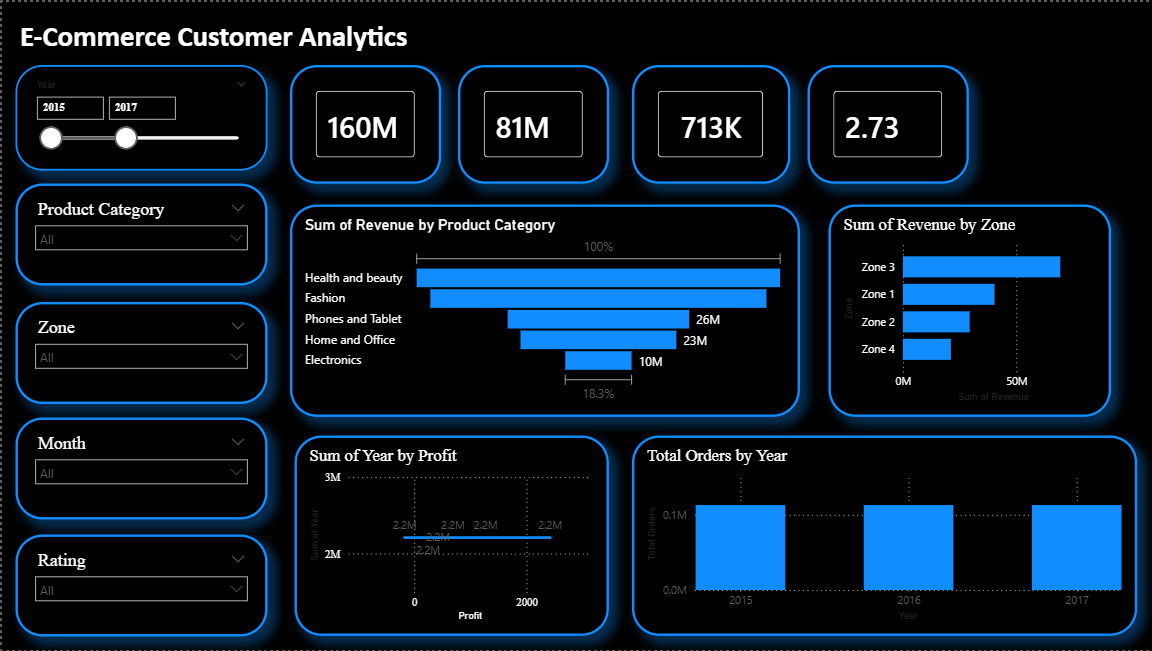

Layout of this report page (visuals, bound fields, positions):
{"tool":"powerbi","page":{"name":"Page 1","canvas":[1280,720],"ordinal":0},"visuals":[{"type":"slicer","fields":{"Values":["Calendar.Year"]},"box":[15.1,69.9,279.7,117.2],"z":0},{"type":"slicer","fields":{"Values":["E-commerce.Product Category"]},"box":[15.1,202.2,279.7,113.4],"z":1000},{"type":"slicer","fields":{"Values":["E-commerce.Zone"]},"box":[15.1,332.6,279.7,113.4],"z":2000},{"type":"slicer","fields":{"Values":["Calendar.Month"]},"box":[15.1,461.1,279.7,113.4],"z":3000},{"type":"slicer","fields":{"Values":["E-commerce.Rating"]},"box":[15.1,591.5,279.7,113.4],"z":4000},{"type":"textbox","box":[15.1,13.2,515.9,56.7],"z":5000},{"type":"cardVisual","fields":{"Data":["E-commerce.Total Revenue"]},"box":[319.4,69.9,168.2,132.3],"z":6000},{"type":"cardVisual","fields":{"Data":["E-commerce.Total Profit"]},"box":[506.5,69.9,168.2,132.3],"z":7000},{"type":"cardVisual","fields":{"Data":["E-commerce.Total Products Sold"]},"box":[699.2,69.9,175.7,132.3],"z":8000},{"type":"cardVisual","fields":{"Data":["E-commerce.Average Rating"]},"box":[895.8,69.9,179.5,132.3],"z":9000},{"type":"funnel","fields":{"Category":["E-commerce.Product Category"],"Y":["Sum(E-commerce.Revenue)"]},"box":[319.4,224.9,566.9,236.2],"z":10000},{"type":"clusteredBarChart","fields":{"Category":["E-commerce.Zone"],"Y":["Sum(E-commerce.Revenue)"]},"box":[918.4,224.9,313.7,236.2],"z":11000},{"type":"clusteredColumnChart","fields":{"Category":["Calendar.Year"],"Y":["E-commerce.Total Orders"]},"box":[699.2,481.9,561.3,223],"z":12000},{"type":"lineChart","fields":{"Category":["E-commerce.Profit"],"Y":["Sum(Calendar.Year)"]},"box":[325,481.9,349.6,223],"z":13000}]}

Visuals, with their boxes in screenshot pixels (x1, y1, x2, y2), scaled from the page's 1280x720 canvas onto the 1152x651 screenshot:
slicer - Calendar.Year: detection(14, 63, 265, 169)
slicer - E-commerce.Product Category: detection(14, 183, 265, 285)
slicer - E-commerce.Zone: detection(14, 301, 265, 403)
slicer - Calendar.Month: detection(14, 417, 265, 519)
slicer - E-commerce.Rating: detection(14, 535, 265, 637)
textbox: detection(14, 12, 478, 63)
cardVisual - E-commerce.Total Revenue: detection(287, 63, 439, 183)
cardVisual - E-commerce.Total Profit: detection(456, 63, 607, 183)
cardVisual - E-commerce.Total Products Sold: detection(629, 63, 787, 183)
cardVisual - E-commerce.Average Rating: detection(806, 63, 968, 183)
funnel - E-commerce.Product Category x Sum(E-commerce.Revenue): detection(287, 203, 798, 417)
clusteredBarChart - E-commerce.Zone x Sum(E-commerce.Revenue): detection(827, 203, 1109, 417)
clusteredColumnChart - Calendar.Year x E-commerce.Total Orders: detection(629, 436, 1134, 637)
lineChart - E-commerce.Profit x Sum(Calendar.Year): detection(292, 436, 607, 637)
